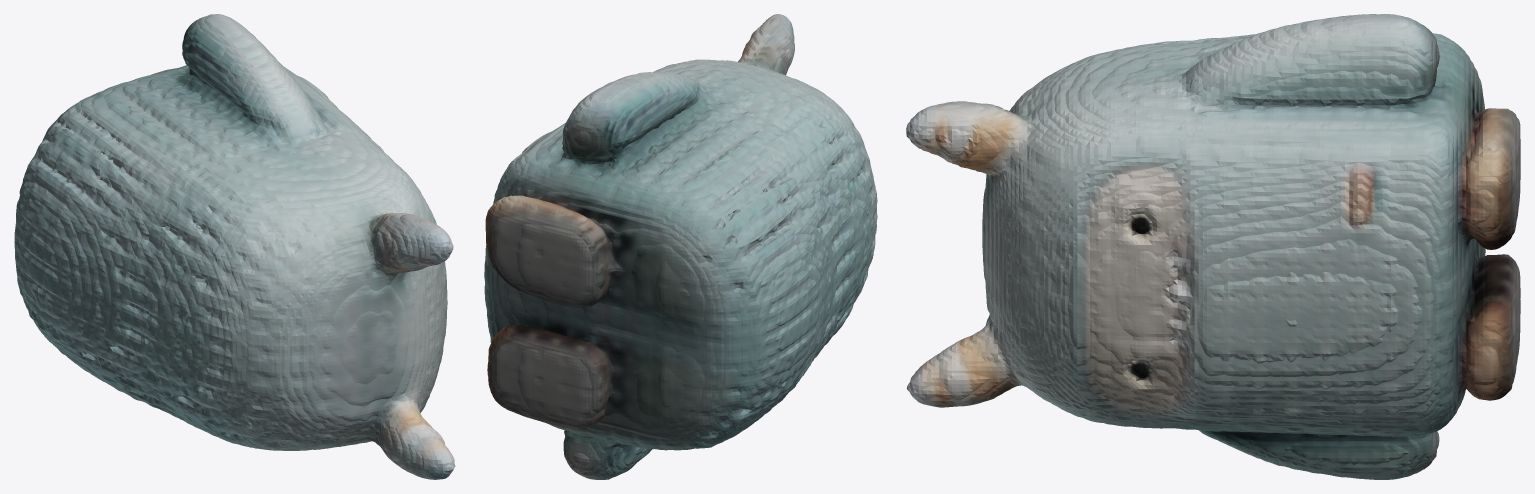
File: triposr_mesh.glb
3 renders of one model, left to right at view 1: azimuth 30°, elevation 25°; view 2: azimuth 150°, elevation 25°; view 3: azimuth 270°, elevation 25°, orthographic. The views are drawn at different scales.
Parts seen in each view (by area): view 1: geometry_0; view 2: geometry_0; view 3: geometry_0.
Part boxes in pixels (left/top/right/bottom): geometry_0: left=14, top=14, right=455, bottom=479; geometry_0: left=484, top=14, right=877, bottom=479; geometry_0: left=906, top=14, right=1520, bottom=479.
Bounding box in the file's own units: 0.6637 × 0.8222 × 1.
